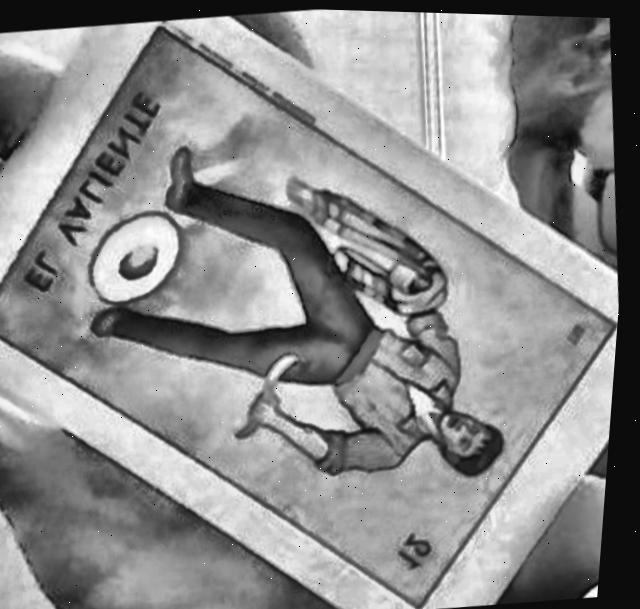El Valiente: (0, 28, 616, 604)
